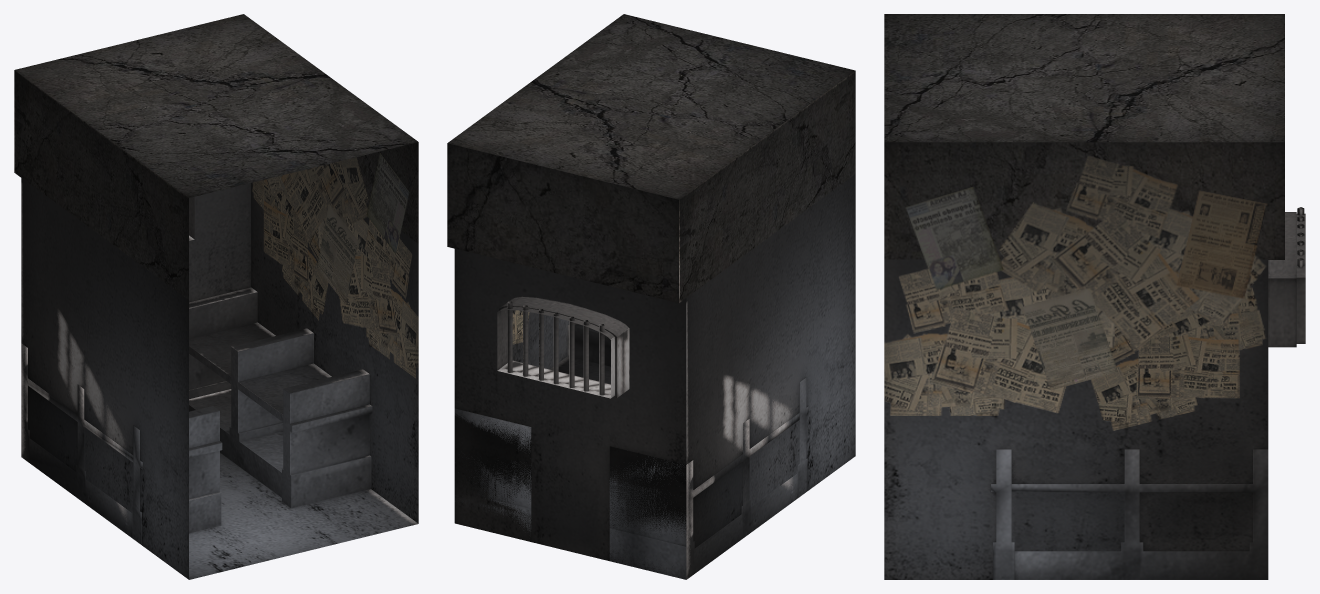
The model's file is celda.FBX.
3 views of the same model, side by side, from view 1: azimuth 30°, elevation 25°; view 2: azimuth 150°, elevation 25°; view 3: azimuth 270°, elevation 25° (orthographic). The views are drawn at different scales.
Visible parts, largest first — view 1: CElda; view 2: CElda; view 3: CElda.
Boxes of the visible parts, x1,y1,x2,y2 form: CElda: (14, 14, 418, 579); CElda: (447, 14, 855, 579); CElda: (884, 14, 1305, 579).
Size of the model in its own units: 369 by 587 by 512.
